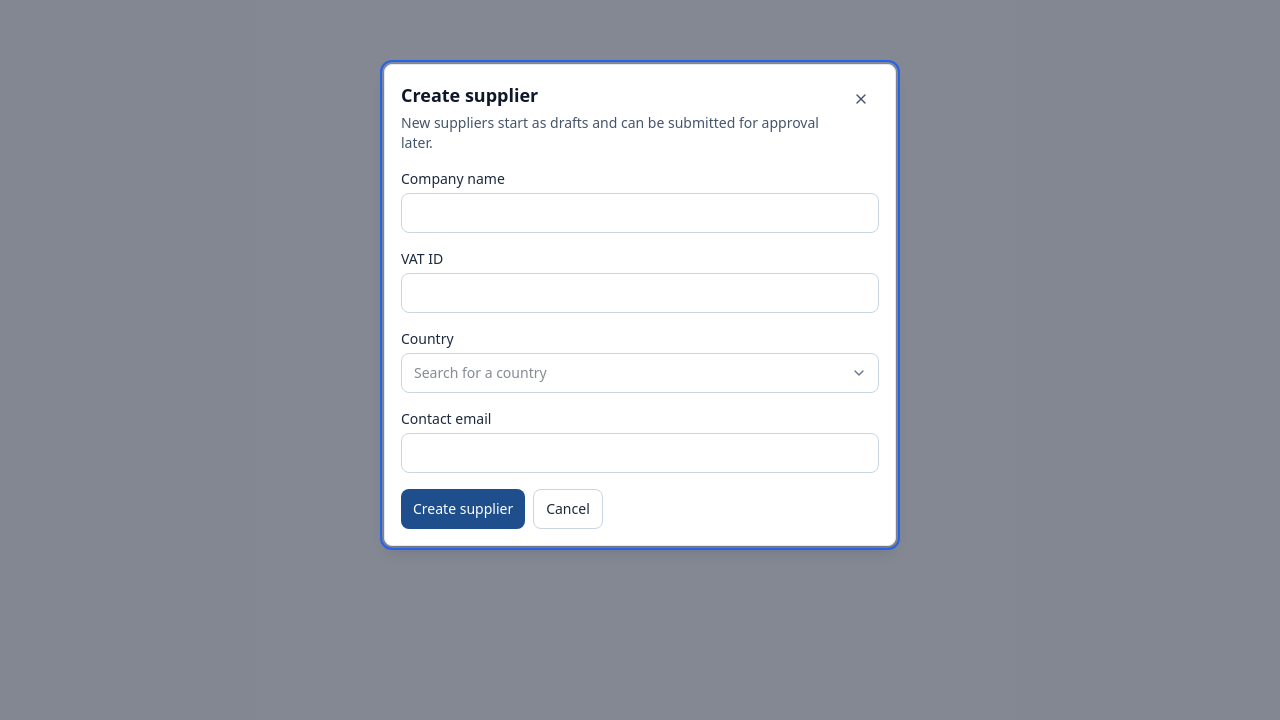
Scenario: CreateSupplierDialog › stays open and shows field errors when submitted empty
The width and height of the screenshot is (1280, 720).
Step 1. Click the button "Create supplier" → click(463, 509), box [401,489,525,529]
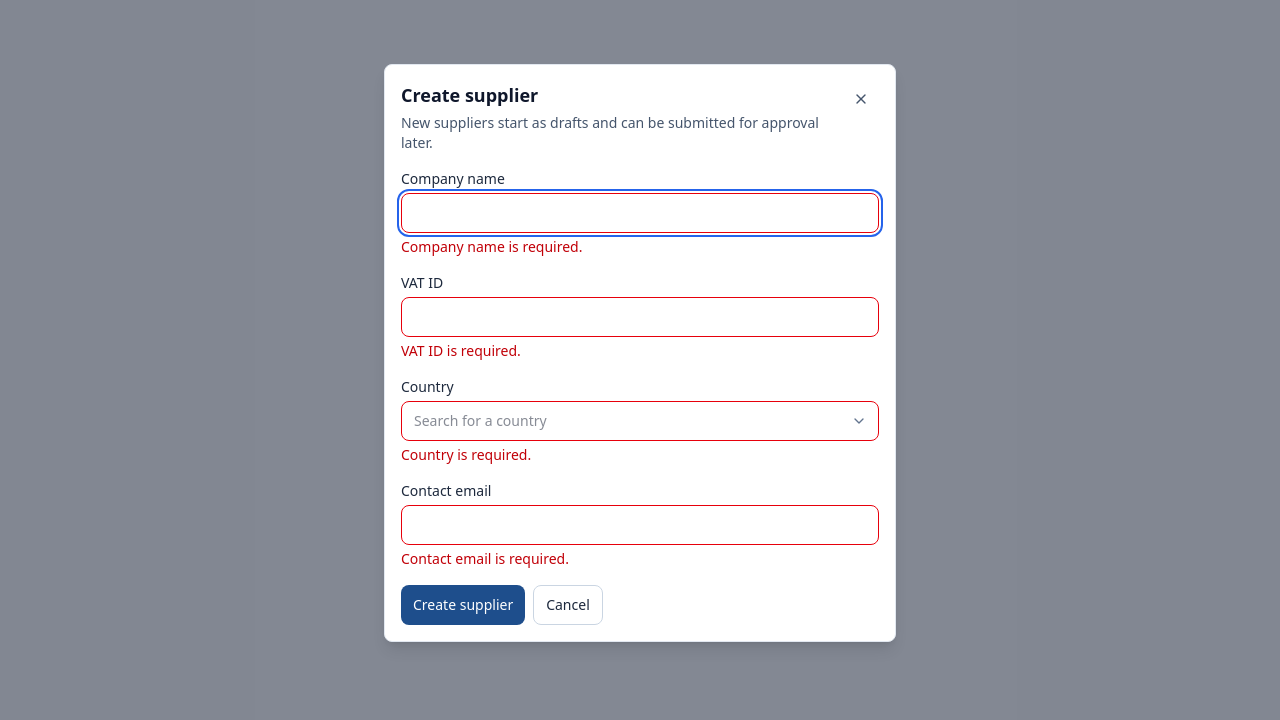
Now the text "Company name is required." is shown, box [401,237,582,256]
Now the text "VAT ID is required." is shown, box [401,341,521,360]
Now the text "Country is required." is shown, box [401,445,531,464]
